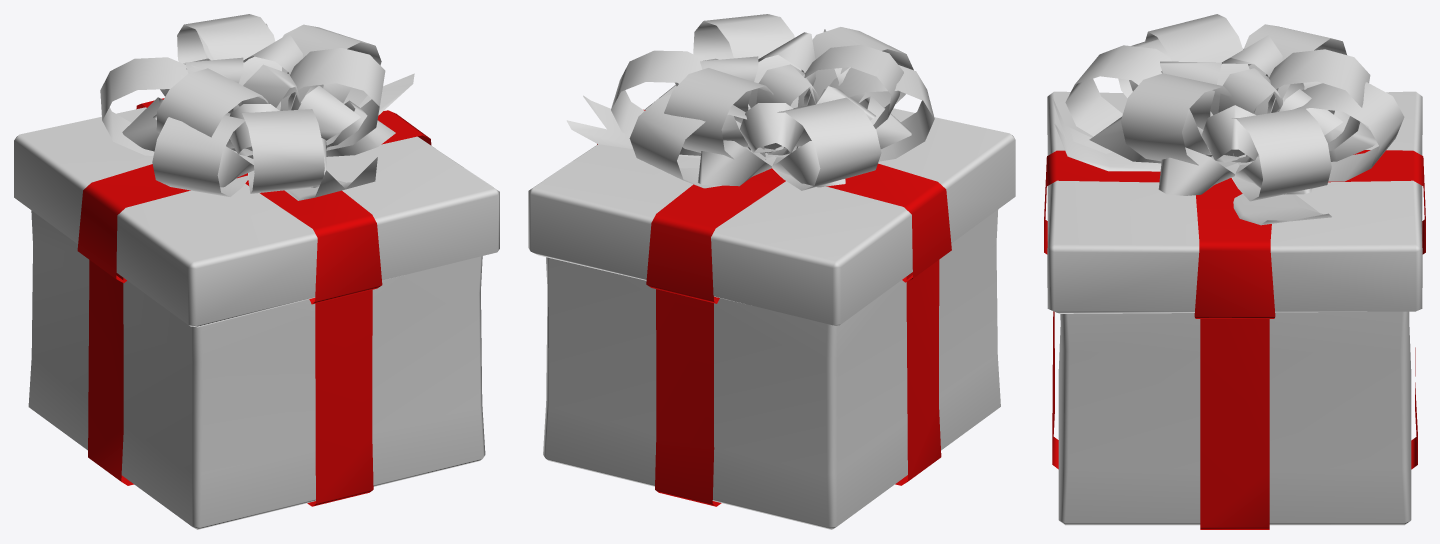
The model's file is SM_PresentBox.fbx.
3 renders of one model, left to right at view 1: azimuth 30°, elevation 25°; view 2: azimuth 150°, elevation 25°; view 3: azimuth 270°, elevation 25°, orthographic. The views are drawn at different scales.
Parts seen in each view (by area): view 1: Present_Box, Present_Lid, Bow_A, Bow_C, Bow_B; view 2: Present_Box, Present_Lid, Bow_A, Bow_C, Bow_B; view 3: Present_Box, Present_Lid, Bow_A, Bow_C, Bow_B.
Part boxes in pixels (<box>): Present_Box: <box>28,210,485,529</box>; Present_Lid: <box>14,98,499,327</box>; Bow_A: <box>100,14,385,193</box>; Bow_C: <box>122,34,395,187</box>; Bow_B: <box>152,23,414,200</box>; Present_Box: <box>543,209,1000,529</box>; Present_Lid: <box>528,85,1015,325</box>; Bow_A: <box>611,14,913,190</box>; Bow_C: <box>675,32,911,187</box>; Bow_B: <box>566,29,934,188</box>; Present_Box: <box>1052,311,1417,529</box>; Present_Lid: <box>1044,91,1425,318</box>; Bow_A: <box>1065,14,1370,201</box>; Bow_C: <box>1089,35,1377,195</box>; Bow_B: <box>1052,39,1404,225</box>.
Size of the model in its own units: 54.15 by 60.12 by 51.61.
